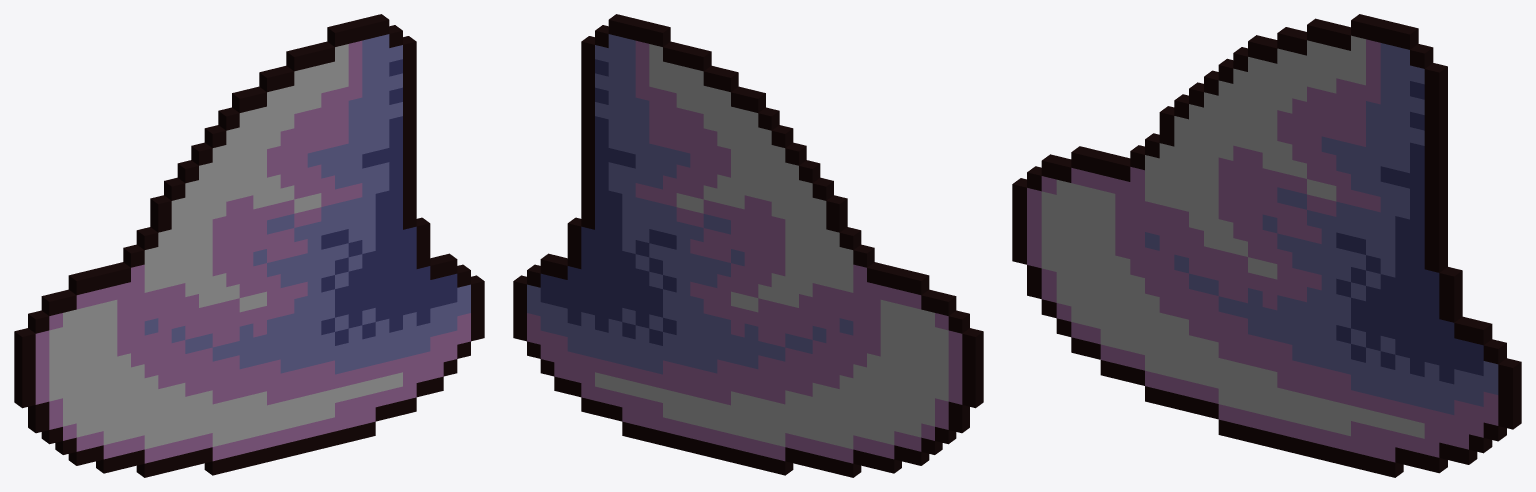
Rendered from C_Hat01.fbx.
3 renders of one model, left to right at view 1: azimuth 30°, elevation 25°; view 2: azimuth 150°, elevation 25°; view 3: azimuth 330°, elevation 25°, orthographic. The views are drawn at different scales.
Visible parts, largest first — view 1: Default; view 2: Default; view 3: Default.
Part boxes in pixels (left/top/right/bottom): Default: left=14, top=14, right=484, bottom=477; Default: left=513, top=14, right=983, bottom=477; Default: left=1012, top=14, right=1521, bottom=477.
Bounding box in the file's own units: 34 × 29 × 1.
1 material, 1 textured.
